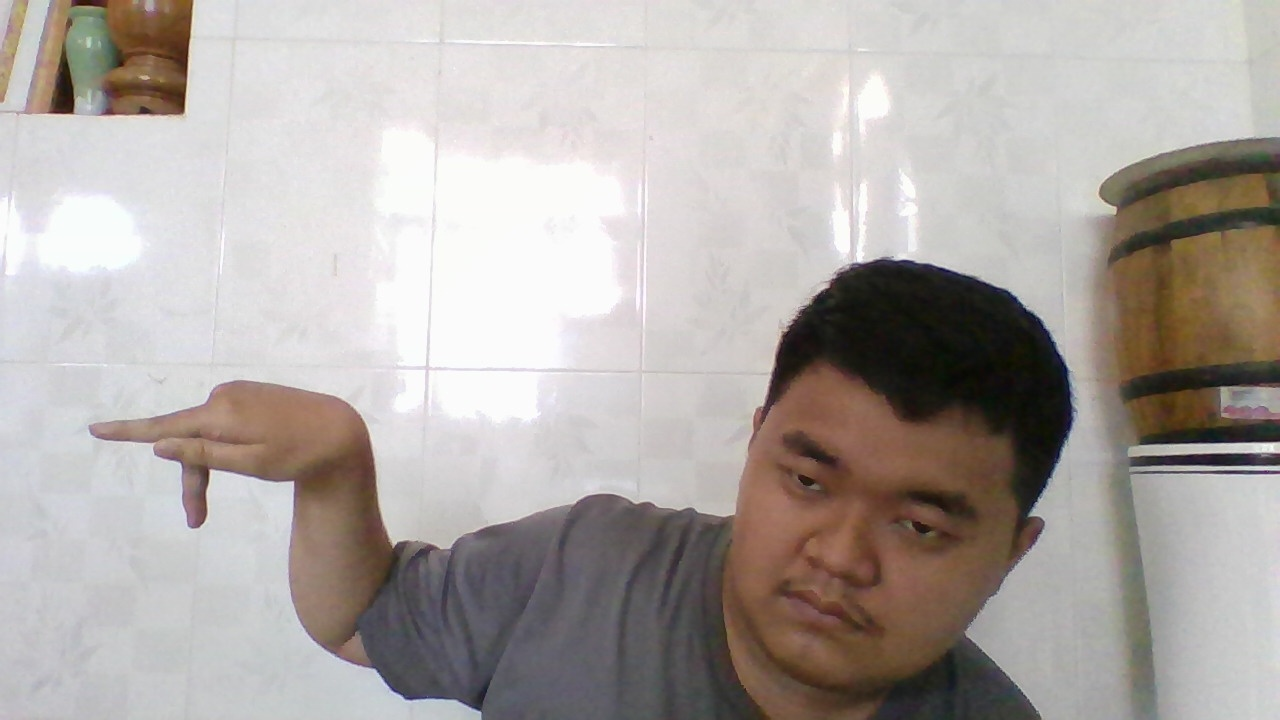P: (77, 374, 358, 520)
